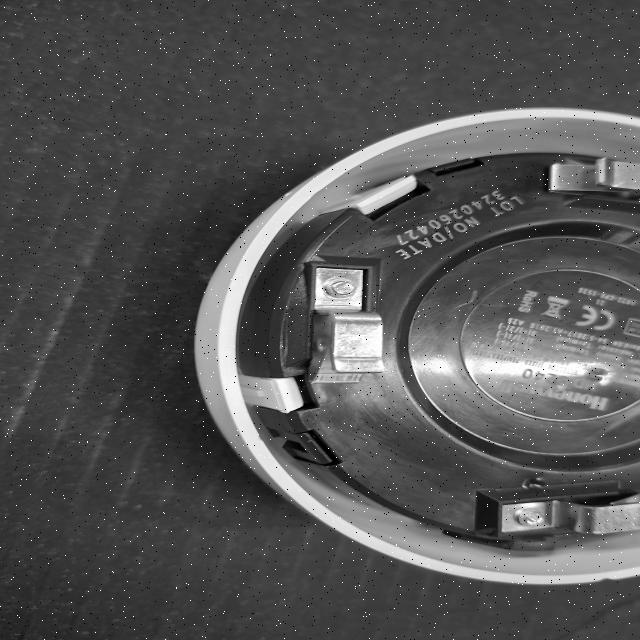yayli: (289, 258, 397, 398)
